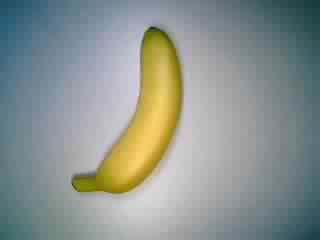banana: (68, 23, 187, 202)
